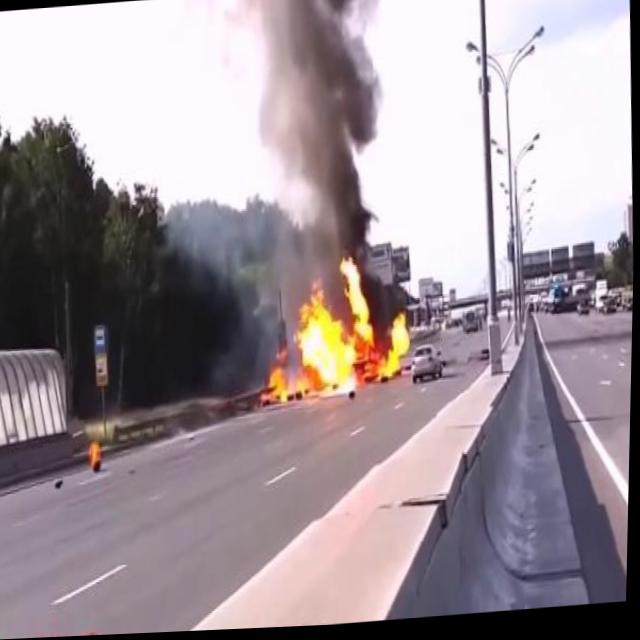fire: (254, 251, 415, 417), (90, 440, 102, 465)
